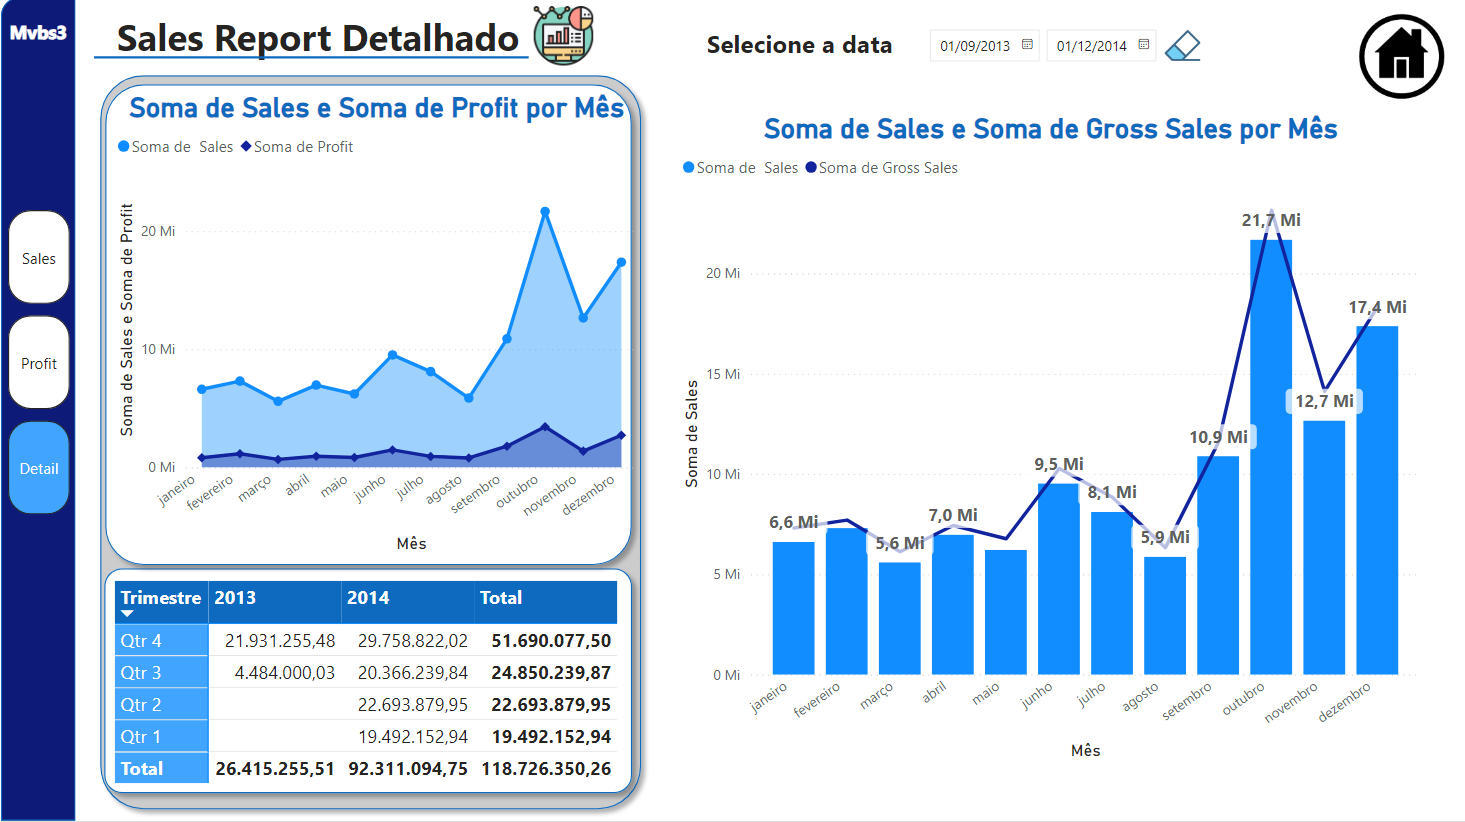

The page's visual inventory and layout, read from the dashboard file:
{"tool":"powerbi","page":{"name":"Detail","canvas":[1280,720],"ordinal":2},"visuals":[{"type":"slicer","fields":{"Values":["financials.Date"]},"box":[798.6,18.3,217.2,47],"z":0,"group":"g2"},{"type":"shape","box":[77.6,59.3,490.6,659.4],"z":0},{"type":"shape","box":[0,0,65.2,719.8],"z":1000,"group":"g1"},{"type":"textbox","box":[611.5,21,187.1,55],"z":1000,"group":"g2"},{"type":"areaChart","fields":{"Category":["financials.Date.Variation.Hierarquia de datas.Mês"],"Y":["Sum(financials. Sales)","Sum(financials.Profit)"]},"box":[95.8,83.3,464.3,407.3],"z":1000,"group":"g4"},{"type":"shape","box":[81,490.6,479.1,214.5],"z":1000},{"type":"image","title":"Borracha","box":[1011.4,21.8,40.8,40.8],"z":2000,"group":"g2"},{"type":"shape","box":[82.1,67.3,478,438.1],"z":2000},{"type":"lineStackedColumnComboChart","fields":{"Category":["financials.Date.Variation.Hierarquia de datas.Mês"],"Y":["Sum(financials. Sales)"],"Y2":["Sum(financials.Gross Sales)"]},"box":[589.7,101.2,655.2,570],"z":2500,"group":"g3"},{"type":"group","id":"g1","title":"Grupo 1","box":[0,0,65.2,719.8],"z":3000},{"type":"textbox","box":[95.8,6.8,378.8,76.4],"z":4000},{"type":"group","id":"g2","title":"Filtro por data","box":[611.5,18.3,439.2,57],"z":5000},{"type":"group","id":"g3","title":"SomaSales por mes","box":[589.7,101.2,655.2,570],"z":6000},{"type":"textbox","box":[2.9,15,74.7,38.3],"z":7000},{"type":"image","box":[460.9,1.1,61.6,66.2],"z":8000},{"type":"pivotTable","fields":{"Rows":["financials.Date.Variation.Hierarquia de datas.Trimestre"],"Values":["Sum(financials. Sales)"],"Columns":["financials.Date.Variation.Hierarquia de datas.Ano"]},"box":[94.7,505.4,451.8,187.1],"z":9000},{"type":"group","id":"g4","title":"SomaSales por mes","box":[95.8,83.3,464.3,407.3],"z":10000},{"type":"shape","box":[81,38.8,379.9,28.5],"z":11000},{"type":"pageNavigator","box":[5.7,186,54.8,268.1],"z":12000},{"type":"image","box":[1167.1,0,112.9,105],"z":13000}]}

Visuals, with their boxes in screenshot pixels (x1, y1, x2, y2), scaled from the page's 1280x720 canvas onto the 1465x822 screenshot:
slicer - financials.Date: rect(914, 21, 1163, 75)
shape: rect(89, 68, 650, 821)
shape: rect(0, 0, 75, 821)
textbox: rect(700, 24, 914, 87)
areaChart - financials.Date.Variation.Hierarquia de datas.Mês x Sum(financials. Sales): rect(110, 95, 641, 560)
shape: rect(93, 560, 641, 805)
"Borracha" image: rect(1158, 25, 1204, 71)
shape: rect(94, 77, 641, 577)
lineStackedColumnComboChart - financials.Date.Variation.Hierarquia de datas.Mês x Sum(financials. Sales): rect(675, 116, 1425, 766)
"Grupo 1" group: rect(0, 0, 75, 821)
textbox: rect(110, 8, 543, 95)
"Filtro por data" group: rect(700, 21, 1203, 86)
"SomaSales por mes" group: rect(675, 116, 1425, 766)
textbox: rect(3, 17, 89, 61)
image: rect(528, 1, 598, 77)
pivotTable - financials.Date.Variation.Hierarquia de datas.Trimestre x Sum(financials. Sales): rect(108, 577, 625, 791)
"SomaSales por mes" group: rect(110, 95, 641, 560)
shape: rect(93, 44, 528, 77)
pageNavigator: rect(7, 212, 69, 518)
image: rect(1336, 0, 1464, 120)
